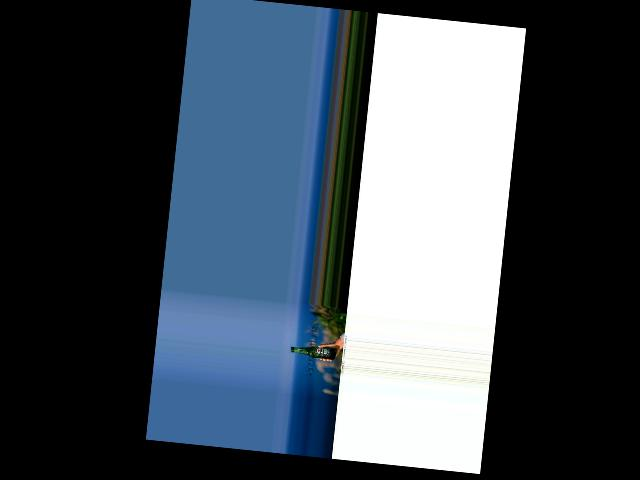beer: (290, 343, 336, 359)
